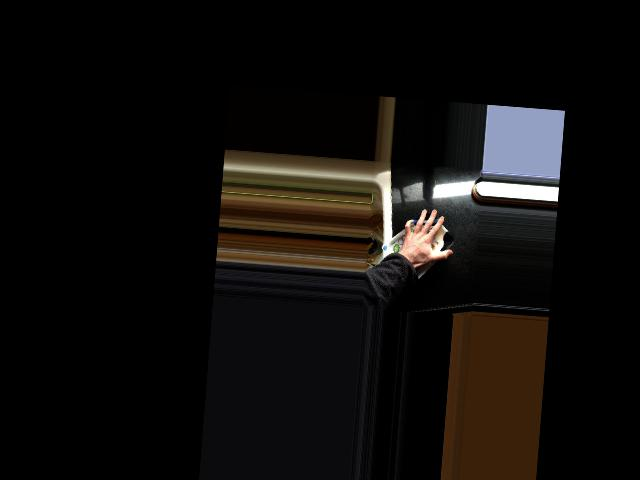cheese: (376, 206, 457, 286)
